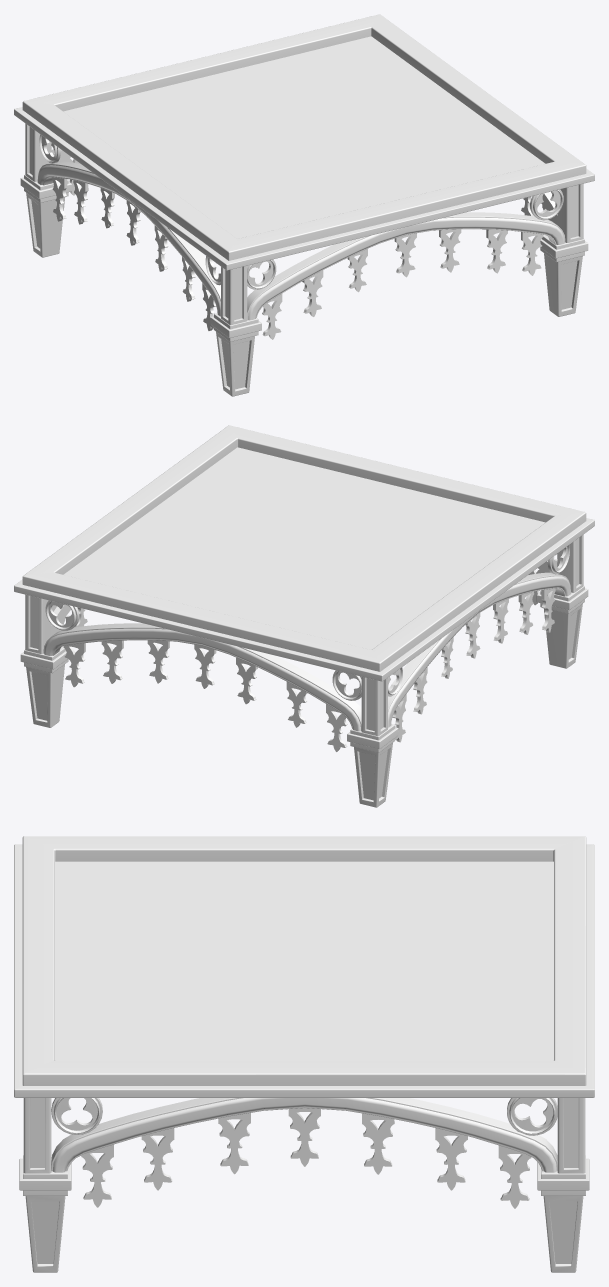
Rendered from table.glb.
3 views of the same model, one above another, from view 1: azimuth 30°, elevation 25°; view 2: azimuth 150°, elevation 25°; view 3: azimuth 270°, elevation 25° (orthographic). The views are drawn at different scales.
Parts seen in each view (by area): view 1: gothic_coffee_table; view 2: gothic_coffee_table; view 3: gothic_coffee_table.
Boxes of the visible parts, bbox=[...] form: gothic_coffee_table: bbox=[14, 14, 594, 396]; gothic_coffee_table: bbox=[14, 425, 594, 807]; gothic_coffee_table: bbox=[14, 836, 594, 1272].
Size of the model in its own units: 25.98 by 10.06 by 25.98.
Materials: 1 (1 with a texture image).
